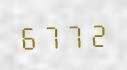seven: (40, 20, 61, 50), (62, 20, 83, 49)
six: (18, 21, 39, 50)
two: (84, 19, 105, 48)
